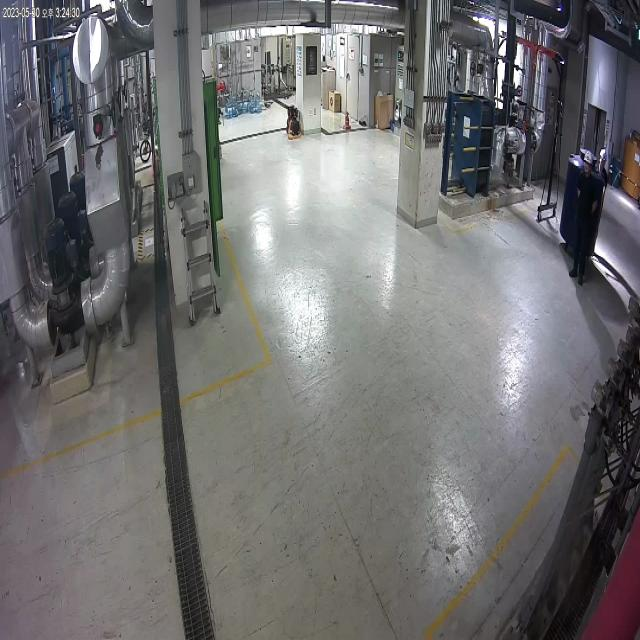Water Tank: (558, 141, 604, 259)
worker: (565, 148, 596, 306), (591, 134, 616, 225)
